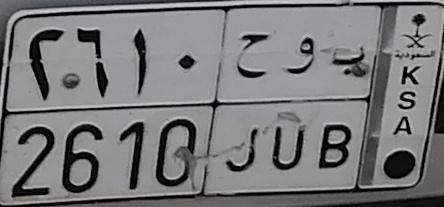0: (156, 52, 198, 187)
1: (119, 27, 152, 192)
2: (11, 27, 66, 200)
6: (62, 24, 116, 196)
B: (318, 43, 370, 171)
J: (225, 32, 273, 173)
U: (274, 33, 321, 174)
